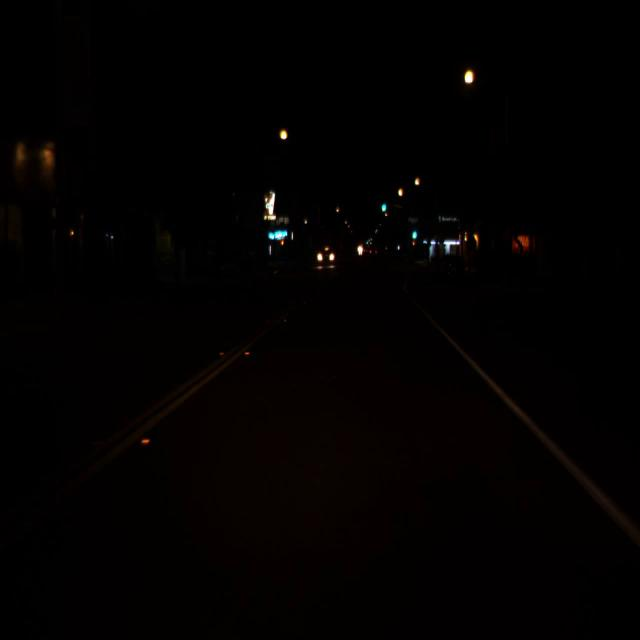go: (413, 232, 417, 238), (382, 205, 386, 209)
go traffic light: (411, 222, 417, 240), (380, 198, 387, 212)
